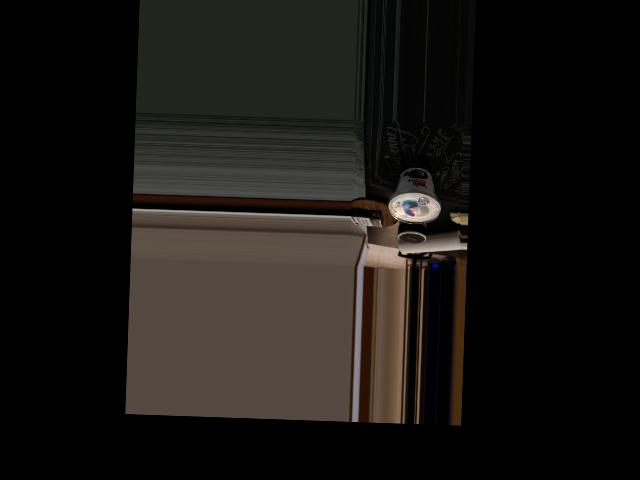cotage: (390, 163, 442, 225)
